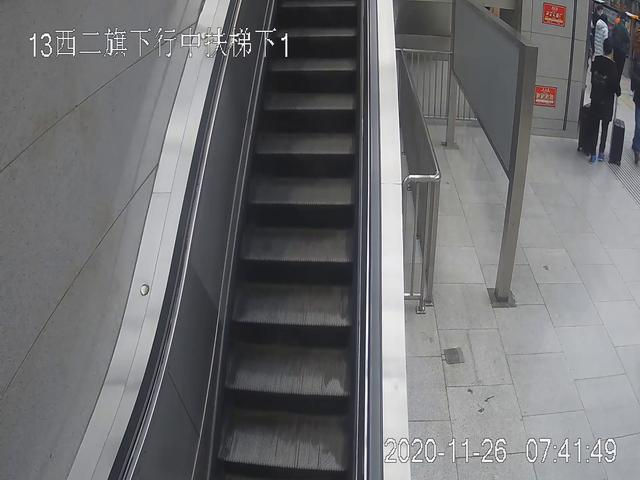person: (589, 38, 622, 164)
